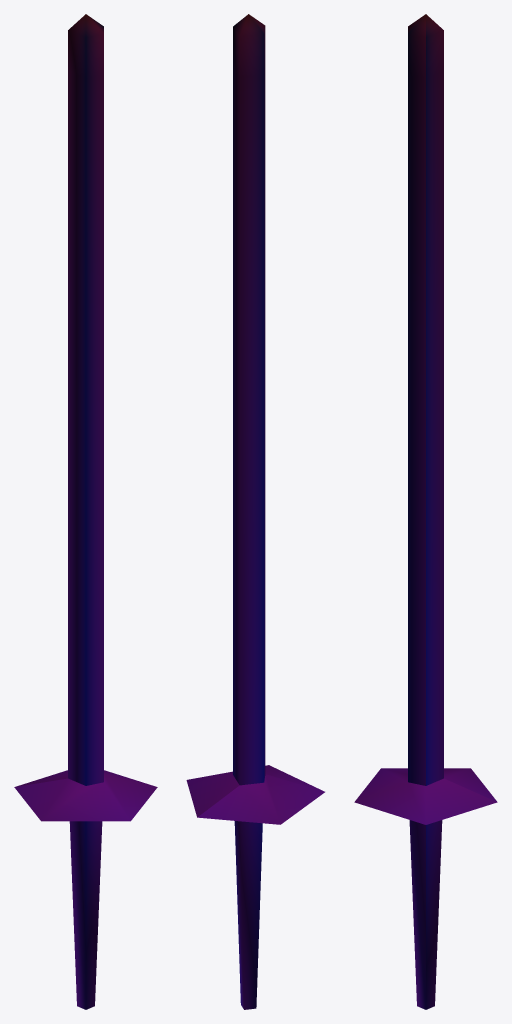
Rendered from model_2CBA.glb.
The picture shows the model from 3 angles, left to right: view 1: azimuth 90°, elevation 25°; view 2: azimuth 150°, elevation 25°; view 3: azimuth 270°, elevation 25°; orthographic projection.
Visible parts, largest first — view 1: part; view 2: part; view 3: part.
Part boxes in pixels (bbox=[...]): part: bbox=[14, 14, 157, 1009]; part: bbox=[186, 14, 324, 1009]; part: bbox=[354, 14, 497, 1009].
Bounding box in the file's own units: 1935 × 15738 × 2064.
